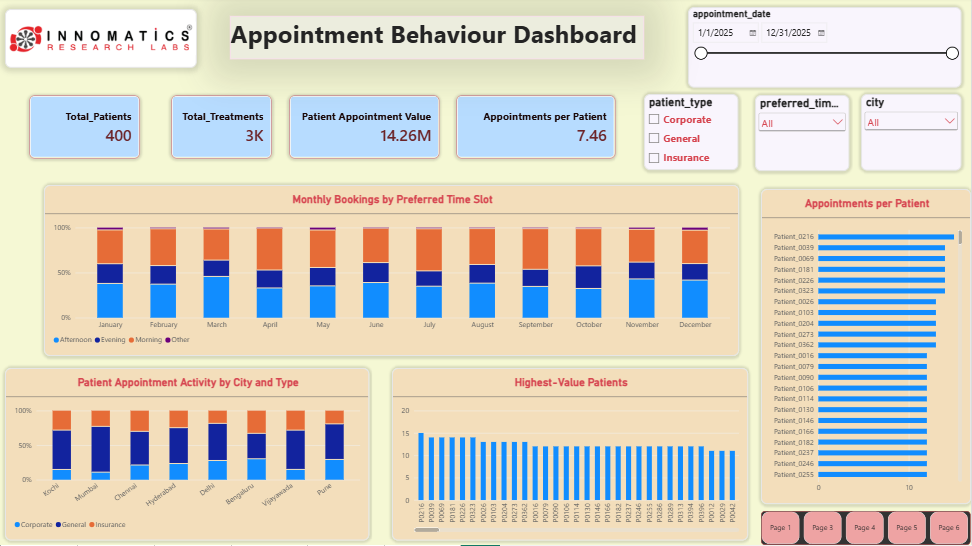

This screenshot's page, from the dashboard's own definition file:
{"tool":"powerbi","page":{"name":"Page 2","canvas":[1920,1080],"ordinal":1},"visuals":[{"type":"cardVisual","fields":{"Data":["treatments.Total_Patients"]},"box":[63.1,193.1,219.2,126],"z":0},{"type":"cardVisual","fields":{"Data":["treatments.Total_Treatments"]},"box":[342.9,193.1,199.1,126],"z":1000},{"type":"cardVisual","fields":{"Data":["appointments.Patient Appointment Value"]},"box":[576,194.1,297.3,125.9],"z":2000},{"type":"cardVisual","fields":{"Data":["appointments.Appointments per Patient"]},"box":[904.3,194.1,315,126],"z":3000},{"type":"clusteredBarChart","title":"Appointments per Patient","fields":{"Category":["patients.patient_name"],"Y":["treatments.Total_Appointments"]},"box":[1505.6,378.2,414.4,620.7],"z":4000},{"type":"clusteredColumnChart","title":"Highest-Value Patients","fields":{"Category":["patients.patient_id"],"Y":["treatments.Total_Appointments"]},"box":[778.2,731.1,702.1,340.2],"z":5000},{"type":"hundredPercentStackedColumnChart","title":"Patient Appointment Activity by City and Type","fields":{"Category":["patients.city"],"Series":["patients.patient_type"],"Y":["treatments.Total_Appointments"]},"box":[16.3,731.1,718.4,340.2],"z":6000},{"type":"hundredPercentStackedColumnChart","title":"Monthly Bookings by Preferred Time Slot","fields":{"Category":["date_table.Year-Month.Variation.Date Hierarchy.Month"],"Series":["patients.preferred_time_slot"],"Y":["treatments.Total_Appointments"]},"box":[92.3,371,1369.9,336.6],"z":7000},{"type":"slicer","fields":{"Values":["appointments.appointment_date"]},"box":[1362.7,19.9,538.8,159],"z":8000},{"type":"slicer","fields":{"Values":["patients.city"]},"box":[1702.9,191.8,198.2,150.7],"z":9000},{"type":"textbox","box":[459.7,38,816.2,85.1],"z":10000},{"type":"slicer","fields":{"Values":["patients.patient_type"]},"box":[1275.8,191.8,186,150],"z":11000},{"type":"slicer","fields":{"Values":["patients.preferred_time_slot"]},"box":[1493,193.6,186,150],"z":12000},{"type":"image","box":[16.5,22.7,377.8,115.6],"z":13000},{"type":"pageNavigator","box":[1505.6,1013.4,412.6,67],"z":14000}]}

Visuals, with their boxes in screenshot pixels (x1, y1, x2, y2), scaled from the page's 1920x1080 canvas onto the 972x546 screenshot:
cardVisual - treatments.Total_Patients: pyautogui.locateOnScreen(32, 98, 143, 161)
cardVisual - treatments.Total_Treatments: pyautogui.locateOnScreen(174, 98, 274, 161)
cardVisual - appointments.Patient Appointment Value: pyautogui.locateOnScreen(292, 98, 442, 162)
cardVisual - appointments.Appointments per Patient: pyautogui.locateOnScreen(458, 98, 617, 162)
"Appointments per Patient" clusteredBarChart: pyautogui.locateOnScreen(762, 191, 971, 505)
"Highest-Value Patients" clusteredColumnChart: pyautogui.locateOnScreen(394, 370, 749, 542)
"Patient Appointment Activity by City and Type" hundredPercentStackedColumnChart: pyautogui.locateOnScreen(8, 370, 372, 542)
"Monthly Bookings by Preferred Time Slot" hundredPercentStackedColumnChart: pyautogui.locateOnScreen(47, 188, 740, 358)
slicer - appointments.appointment_date: pyautogui.locateOnScreen(690, 10, 963, 90)
slicer - patients.city: pyautogui.locateOnScreen(862, 97, 962, 173)
textbox: pyautogui.locateOnScreen(233, 19, 646, 62)
slicer - patients.patient_type: pyautogui.locateOnScreen(646, 97, 740, 173)
slicer - patients.preferred_time_slot: pyautogui.locateOnScreen(756, 98, 850, 174)
image: pyautogui.locateOnScreen(8, 11, 200, 70)
pageNavigator: pyautogui.locateOnScreen(762, 512, 971, 545)
